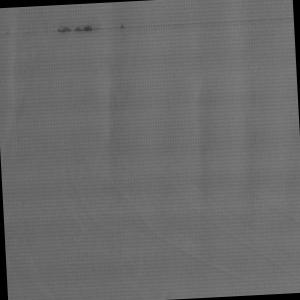Stain: (46, 18, 131, 41)
